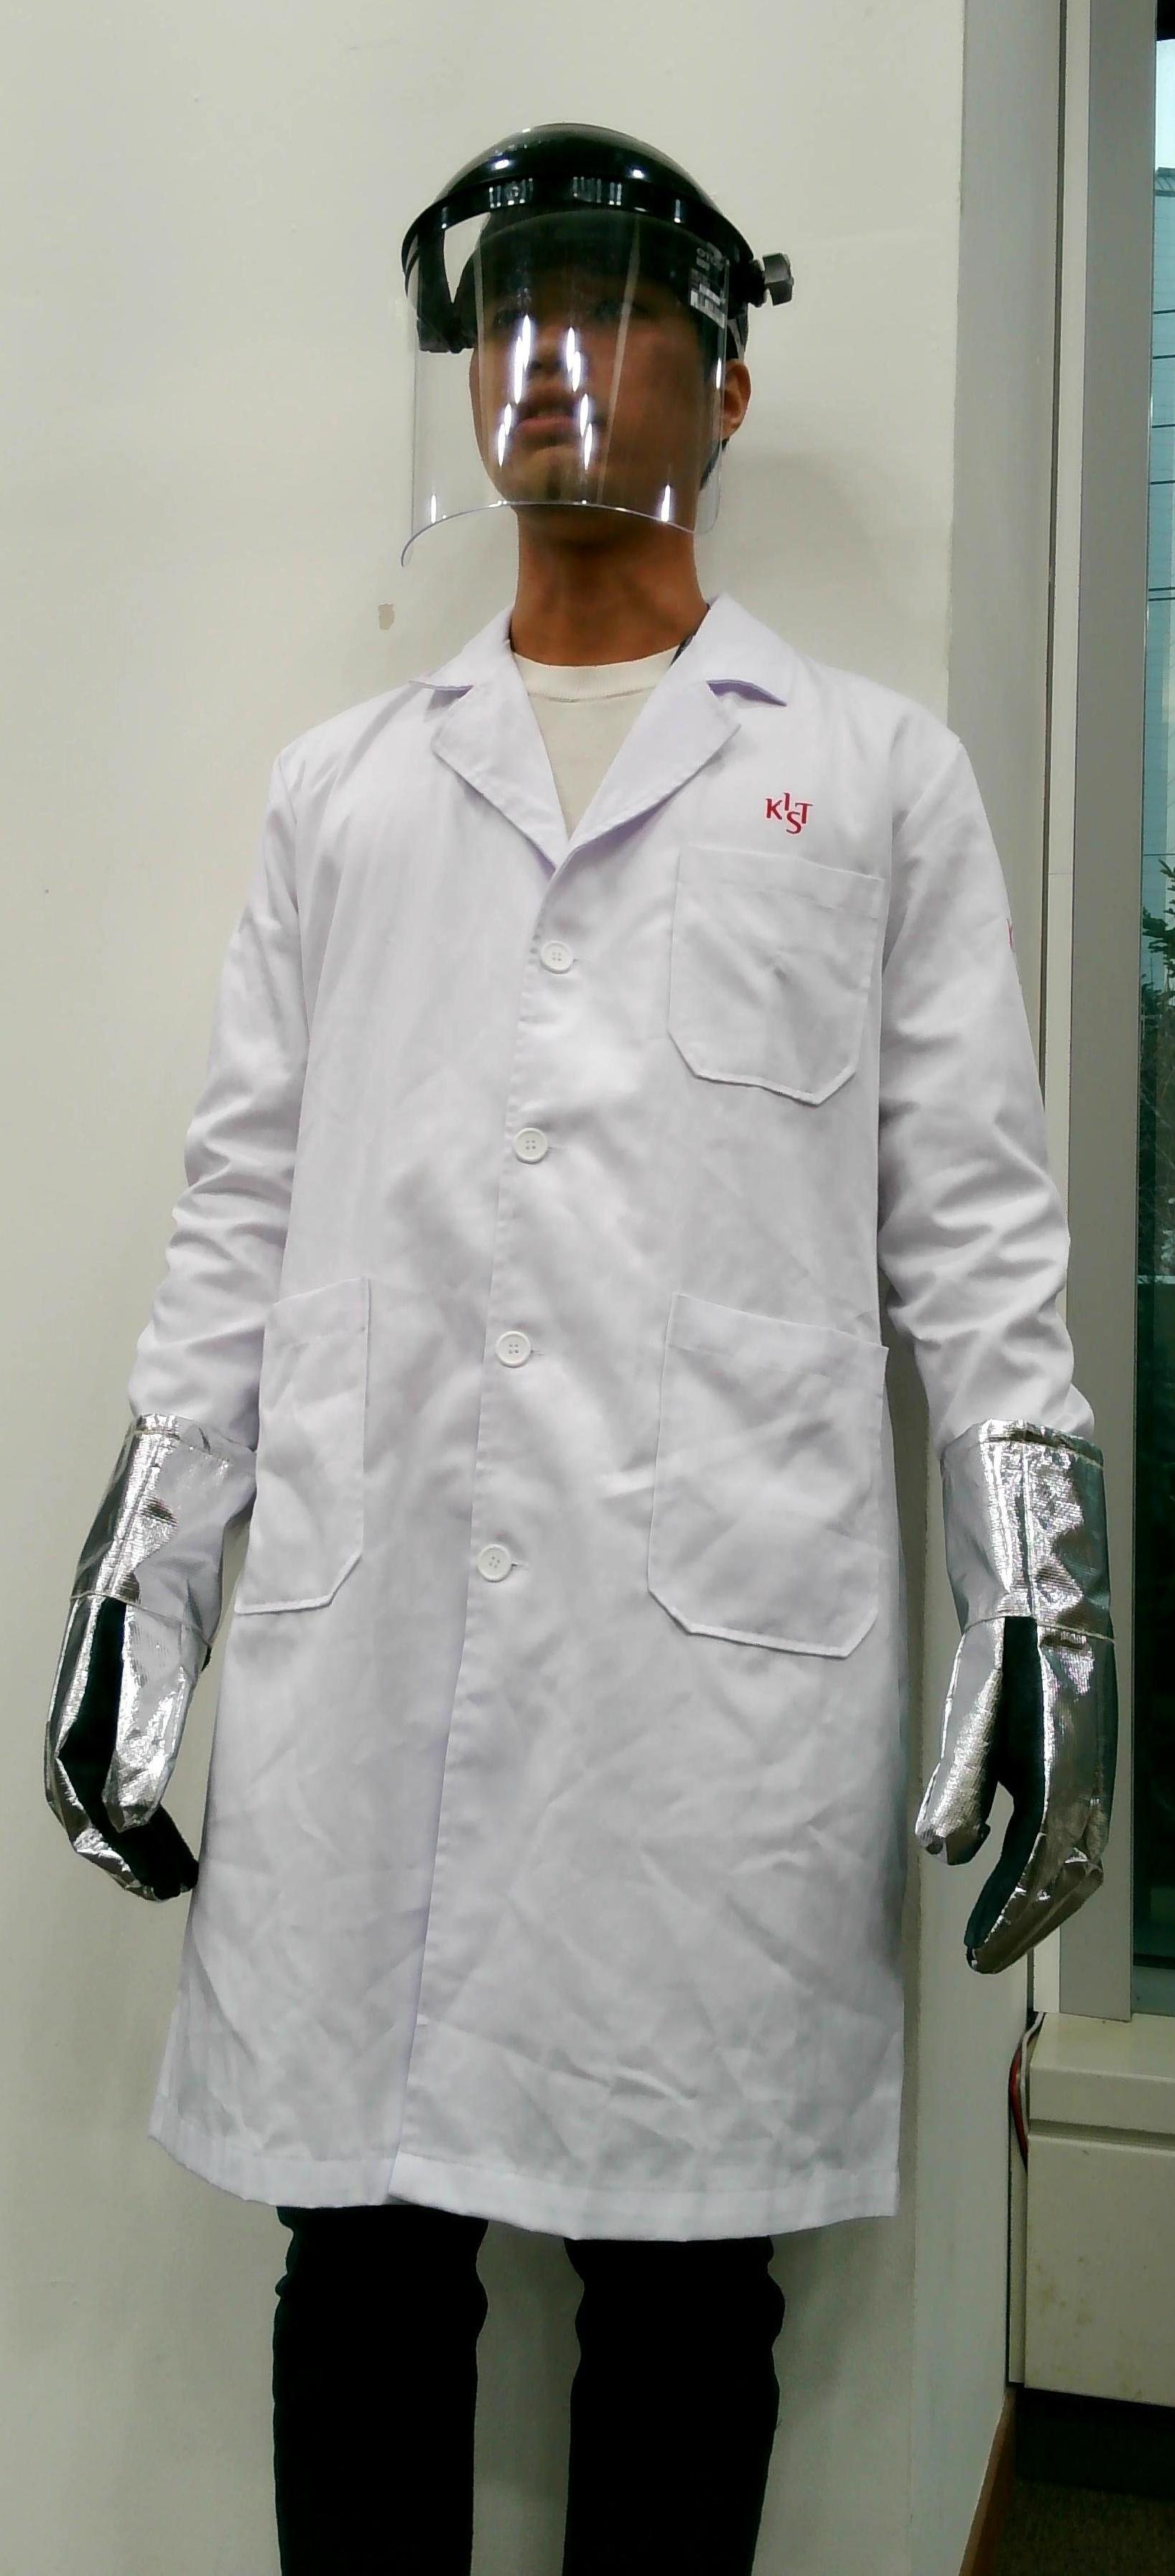lab_coat: (217, 698, 892, 2228)
